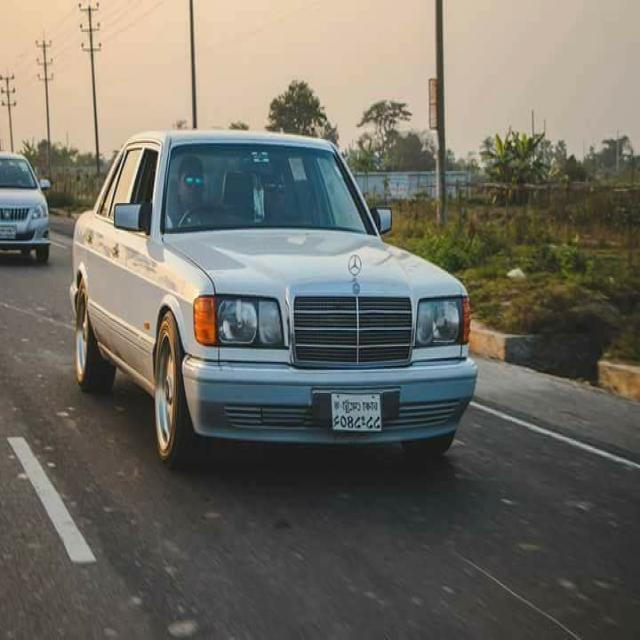numberplate: (331, 390, 383, 433), (0, 218, 17, 246)
